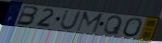2: (35, 8, 55, 29)
B: (15, 5, 40, 27)
M: (74, 11, 105, 34)
O: (122, 17, 144, 38)
Q: (103, 15, 124, 36)
U: (58, 10, 83, 31)
